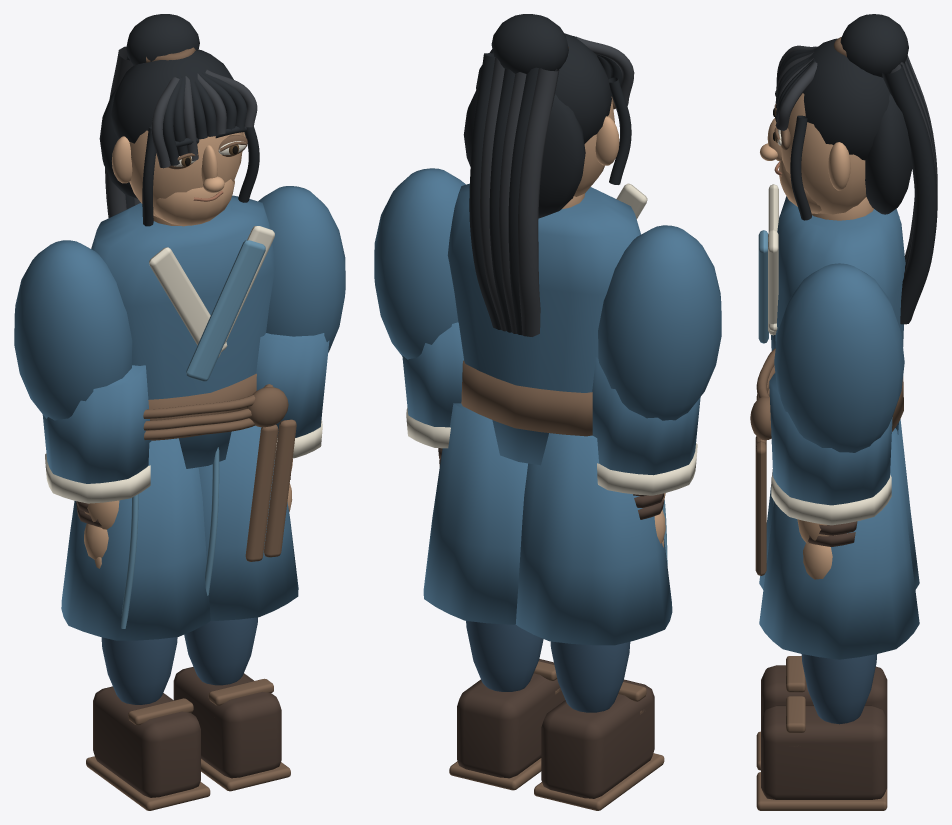
Rendered from dowon.glb.
3 views of the same model, side by side, from view 1: azimuth 30°, elevation 25°; view 2: azimuth 150°, elevation 25°; view 3: azimuth 270°, elevation 25° (orthographic). The views are drawn at different scales.
Visible parts, largest first — view 1: Cross collar torso, Robe skirt L, Upper sleeve L, Robe skirt R, Upper sleeve R, Wide lower sleeve L, Boot L, Boot R, Wide lower sleeve R, Hair cap, Trousers L, Trousers R (+35 smaller); view 2: Robe skirt L, Cross collar torso, Upper sleeve L, Robe skirt R, Upper sleeve R, Boot L, Boot R, Wide lower sleeve L, Sash belt, Long ponytail, Wide lower sleeve R, Hair back (+17 smaller); view 3: Upper sleeve R, Robe skirt R, Boot R, Cross collar torso, Wide lower sleeve R, Hair cap, Long ponytail.005, Trousers R, Face, Hair back, Tied knot, Ivory cuff R (+21 smaller).
Boxes of the visible parts, x1=… form: Cross collar torso: x1=91, y1=195, x2=275, y2=468; Robe skirt L: x1=61, y1=438, x2=210, y2=640; Upper sleeve L: x1=14, y1=240, x2=132, y2=420; Robe skirt R: x1=198, y1=425, x2=298, y2=620; Upper sleeve R: x1=258, y1=186, x2=345, y2=352; Wide lower sleeve L: x1=42, y1=365, x2=151, y2=483; Boot L: x1=93, y1=686, x2=200, y2=797; Boot R: x1=173, y1=666, x2=281, y2=778; Wide lower sleeve R: x1=256, y1=333, x2=329, y2=437; Hair cap: x1=111, y1=49, x2=233, y2=143; Trousers L: x1=101, y1=637, x2=177, y2=704; Trousers R: x1=184, y1=617, x2=257, y2=685; Robe skirt L: x1=515, y1=433, x2=672, y2=645; Cross collar torso: x1=447, y1=183, x2=640, y2=465; Upper sleeve L: x1=598, y1=225, x2=721, y2=420; Robe skirt R: x1=423, y1=403, x2=527, y2=624; Upper sleeve R: x1=374, y1=168, x2=465, y2=359; Boot L: x1=541, y1=679, x2=654, y2=798; Boot R: x1=457, y1=659, x2=565, y2=778; Wide lower sleeve L: x1=592, y1=356, x2=700, y2=475; Sash belt: x1=461, y1=360, x2=592, y2=436; Long ponytail: x1=518, y1=68, x2=559, y2=336; Wide lower sleeve R: x1=402, y1=322, x2=463, y2=427; Hair back: x1=463, y1=87, x2=585, y2=218; Upper sleeve R: x1=774, y1=263, x2=904, y2=452; Robe skirt R: x1=759, y1=428, x2=919, y2=659; Boot R: x1=761, y1=705, x2=887, y2=799; Cross collar torso: x1=775, y1=199, x2=905, y2=434; Wide lower sleeve R: x1=769, y1=373, x2=892, y2=505; Hair cap: x1=803, y1=38, x2=889, y2=160; Long ponytail.005: x1=882, y1=63, x2=937, y2=324; Trousers R: x1=801, y1=654, x2=877, y2=724; Face: x1=781, y1=93, x2=866, y2=214; Hair back: x1=865, y1=93, x2=912, y2=214; Tied knot: x1=840, y1=14, x2=908, y2=77; Ivory cuff R: x1=771, y1=475, x2=891, y2=525.
Bounding box in the file's own units: 0.8603 × 1.92 × 0.4309.
